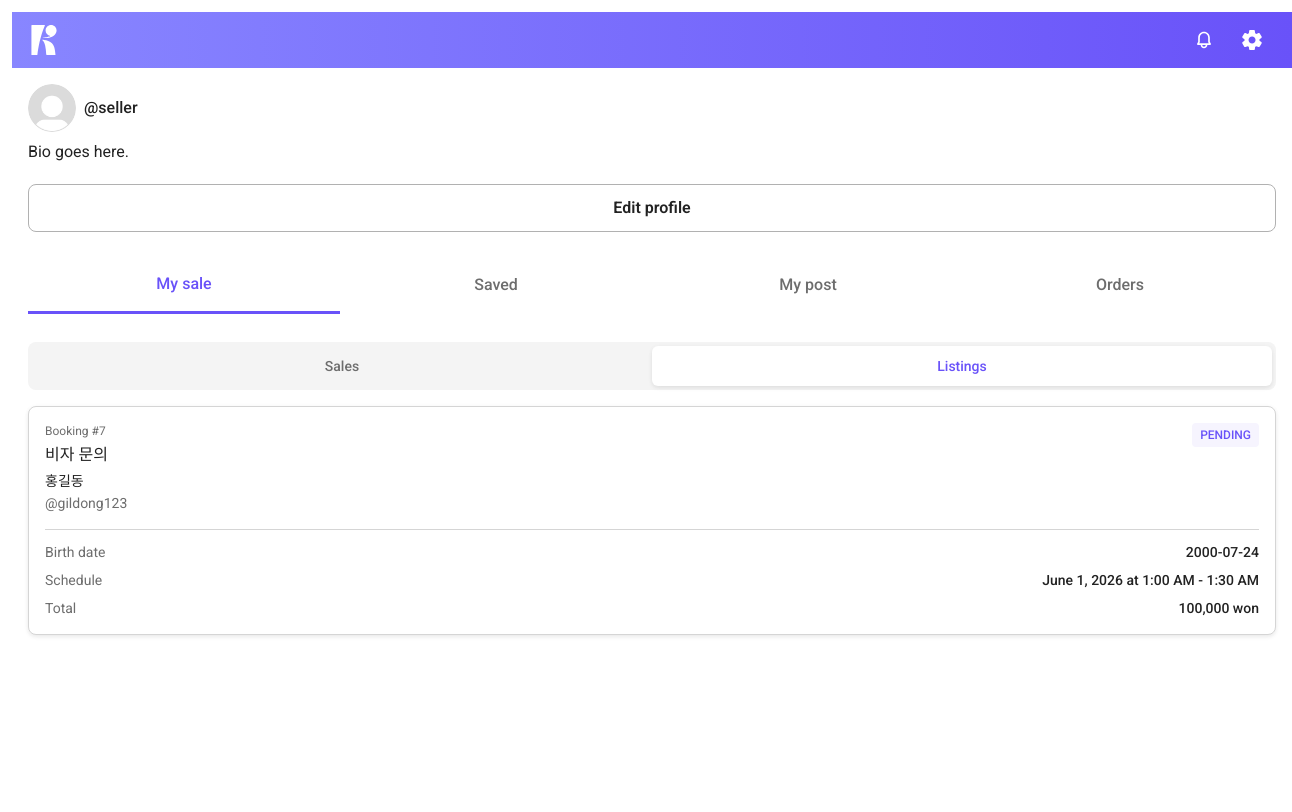
Test: opens the booking detail from counselor listings
Expected: the heading "비자 문의" is shown, [45,445,108,464]
Expected: the text "홍길동" is shown, [45,473,84,489]
Click the button "비자 문의" at (652, 520), box [28,406,1276,635]
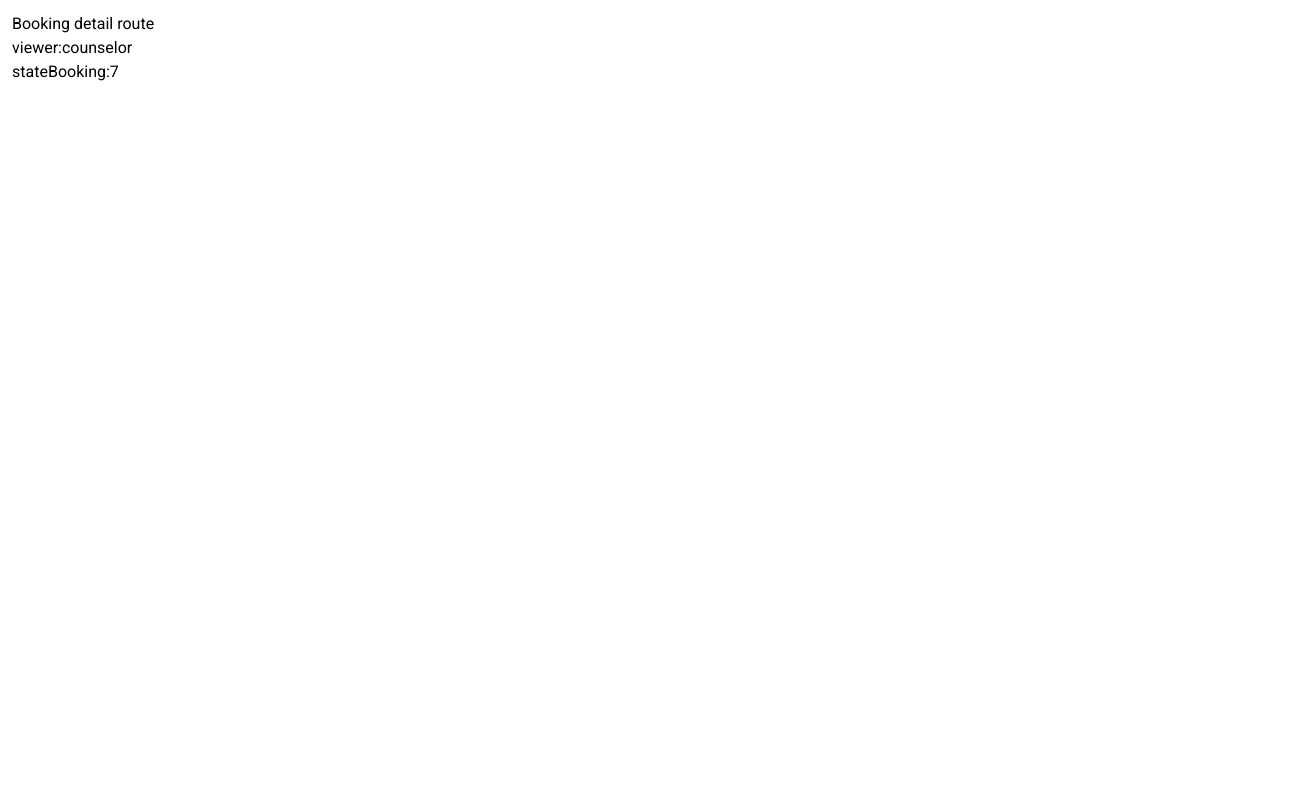
Result: the text "Booking detail route" is shown at [12,14,154,33]
Result: the text "viewer:counselor" is shown at [12,38,132,57]
Result: the text "stateBooking:7" is shown at [12,62,119,81]
